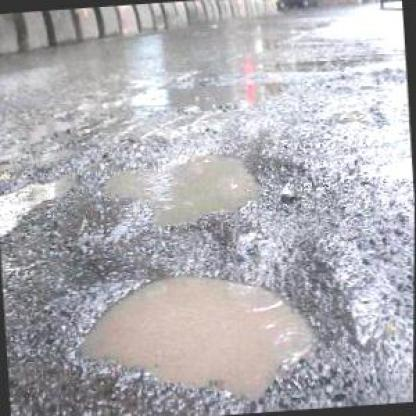pothole: (64, 240, 355, 415), (93, 132, 283, 235)
